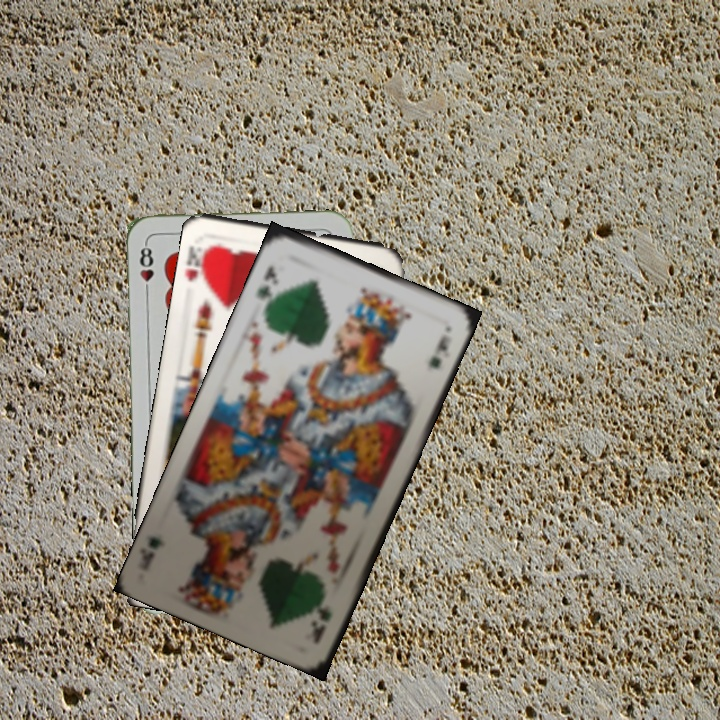GK: (252, 261, 282, 310), (308, 601, 334, 647)
H8: (135, 239, 156, 298)
HK: (182, 242, 214, 290)
